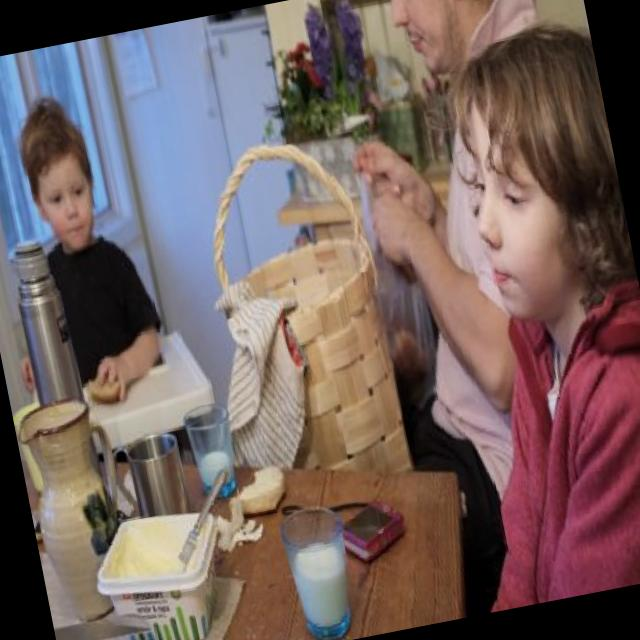Person: (313, 0, 640, 622), (383, 7, 640, 611), (0, 84, 177, 442)
